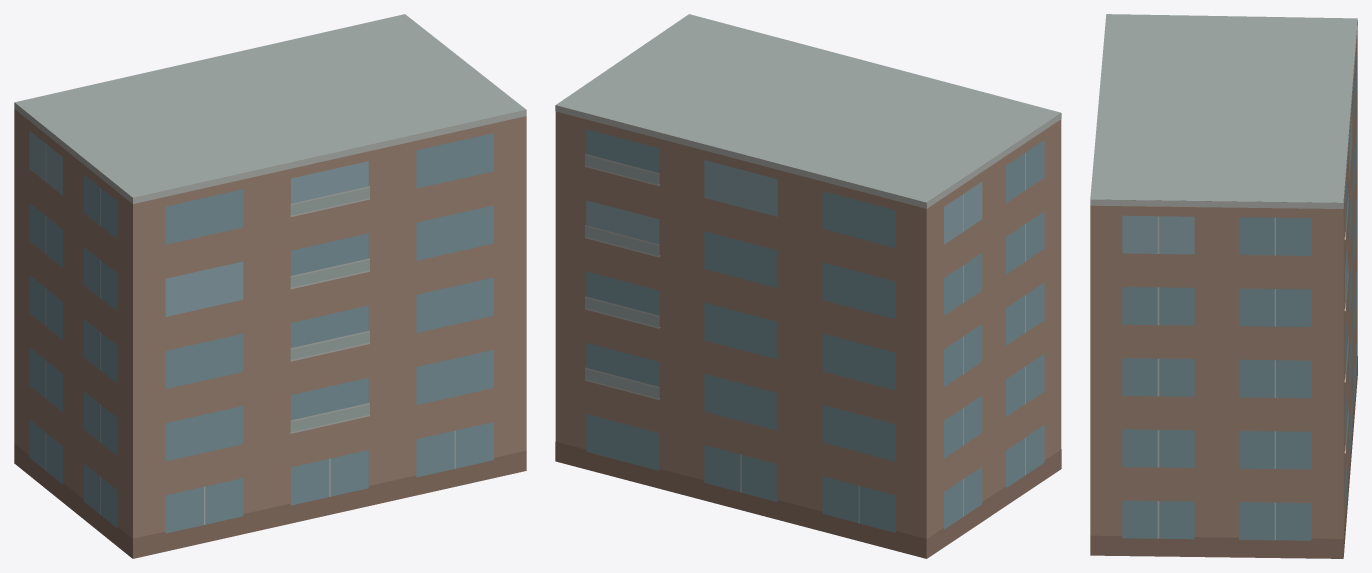
Rendered from survey-upis-32659764.glb.
3 renders of one model, left to right at view 1: azimuth 30°, elevation 25°; view 2: azimuth 150°, elevation 25°; view 3: azimuth 270°, elevation 25°, orthographic.
Visible parts, largest first — view 1: survey-upis-32659764.tmp; view 2: survey-upis-32659764.tmp; view 3: survey-upis-32659764.tmp.
Part boxes in pixels (bbox=[...]): survey-upis-32659764.tmp: bbox=[14, 14, 526, 558]; survey-upis-32659764.tmp: bbox=[555, 14, 1061, 558]; survey-upis-32659764.tmp: bbox=[1090, 14, 1357, 558].
Bounding box in the file's own units: 15.88 × 13.95 × 9.51.
